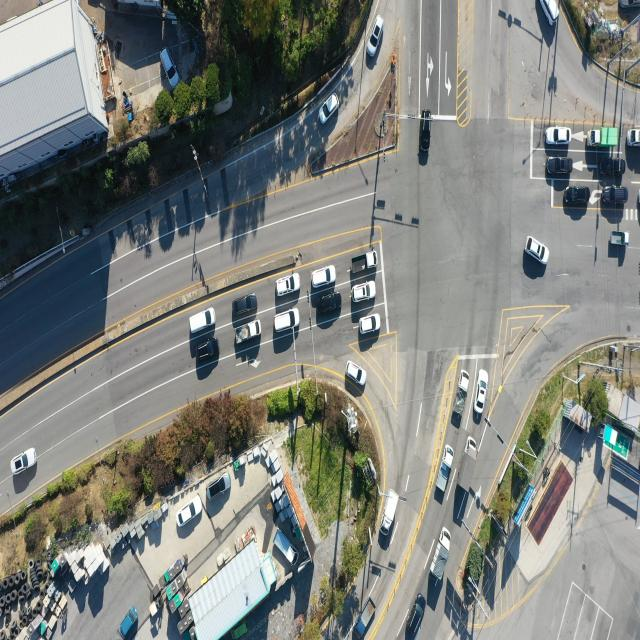car: (406, 592, 428, 638), (158, 44, 179, 89), (189, 307, 216, 335), (367, 15, 385, 57), (177, 496, 201, 527), (10, 448, 36, 475), (526, 236, 549, 266), (273, 310, 299, 334), (319, 95, 339, 125), (476, 368, 489, 414), (538, 0, 561, 26), (345, 358, 366, 386), (311, 266, 336, 289), (196, 340, 222, 362), (277, 274, 301, 297), (234, 295, 259, 317), (208, 476, 230, 501), (352, 281, 376, 302), (318, 294, 342, 315), (547, 157, 573, 176), (566, 187, 590, 207), (358, 314, 381, 334), (420, 109, 430, 155), (606, 187, 630, 206), (547, 128, 572, 146), (600, 159, 624, 177), (619, 0, 640, 10)
small_truck: (457, 436, 477, 494), (272, 528, 298, 572), (430, 526, 451, 577), (438, 445, 456, 496), (355, 596, 375, 640), (381, 488, 398, 534), (453, 372, 470, 418), (586, 129, 619, 150), (350, 250, 378, 274), (235, 321, 261, 346), (119, 610, 136, 640), (611, 232, 631, 247), (627, 130, 640, 148)
